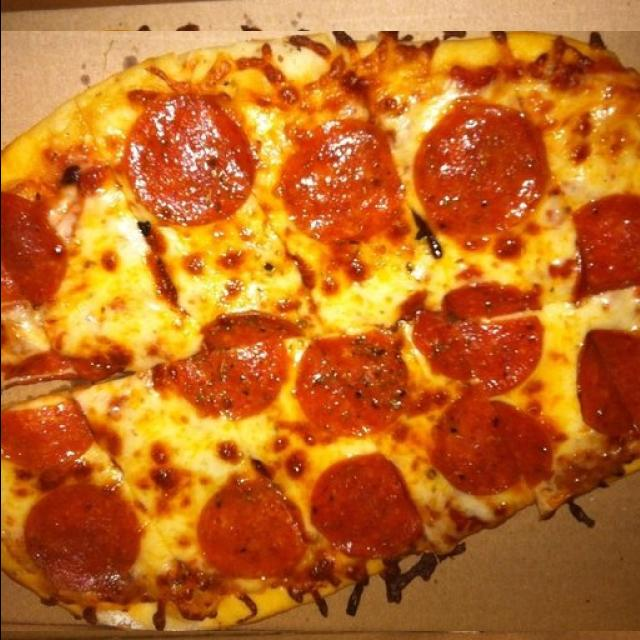pepperoni: (95, 102, 227, 240), (384, 92, 518, 226), (334, 318, 490, 416), (244, 121, 364, 244), (100, 288, 226, 392), (88, 399, 213, 498), (500, 485, 616, 591), (218, 453, 332, 556), (338, 482, 442, 583), (236, 339, 343, 436), (575, 193, 640, 309), (0, 195, 67, 304), (0, 328, 65, 440), (548, 400, 640, 475)
pizza: (0, 31, 640, 631)
